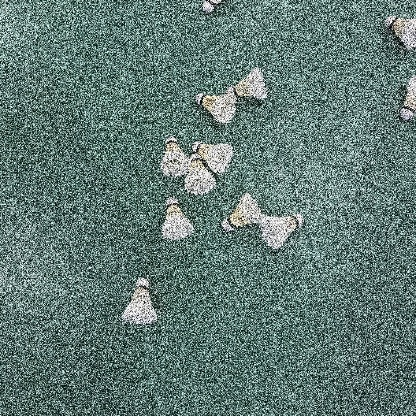ball_single: (222, 192, 265, 232), (122, 277, 157, 326), (258, 214, 304, 250), (161, 197, 194, 241), (192, 141, 234, 174), (226, 67, 267, 100), (184, 154, 216, 196), (160, 136, 191, 178), (195, 93, 237, 124), (385, 16, 416, 50), (400, 75, 416, 120), (202, 0, 222, 13)
